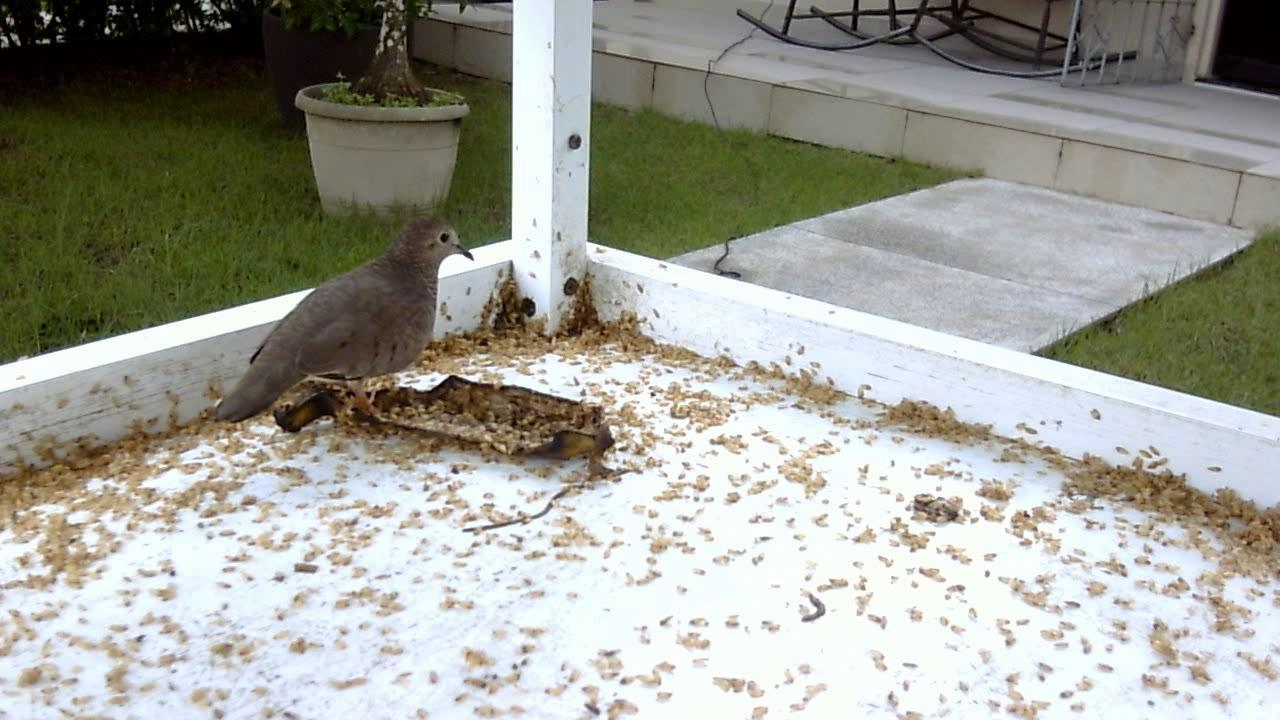rolinha: (208, 212, 477, 439)
